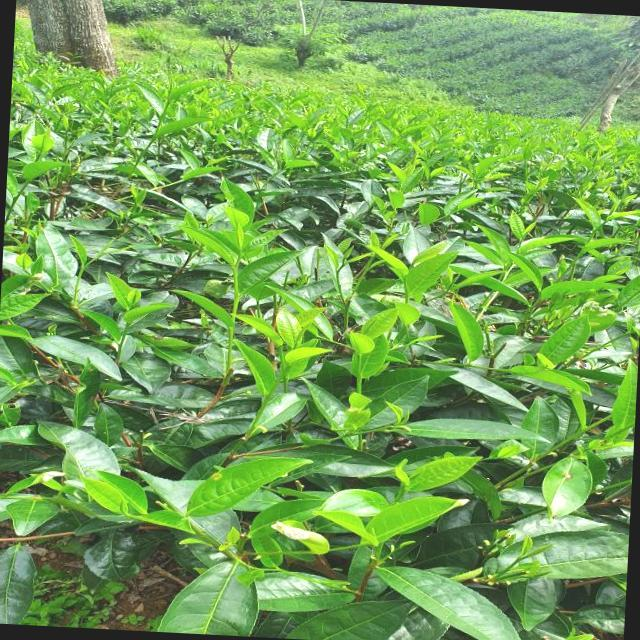Stem: (233, 266, 238, 272), (81, 267, 84, 271), (337, 271, 339, 276), (125, 328, 128, 331), (167, 101, 170, 104)
